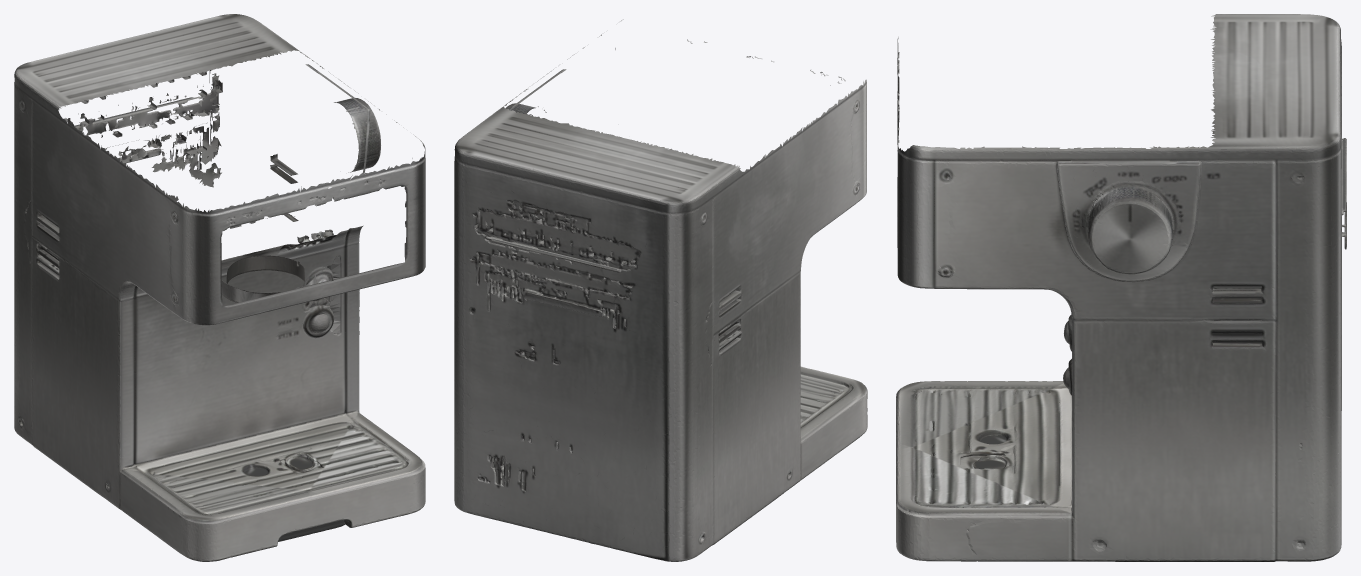
The picture shows the model from 3 angles, left to right: view 1: azimuth 30°, elevation 25°; view 2: azimuth 150°, elevation 25°; view 3: azimuth 270°, elevation 25°; orthographic projection. The views are drawn at different scales.
Visible parts, largest first — view 1: source_surface_0; view 2: source_surface_0; view 3: source_surface_0.
Boxes of the visible parts, bbox=[...] form: source_surface_0: bbox=[14, 14, 425, 561]; source_surface_0: bbox=[454, 19, 867, 561]; source_surface_0: bbox=[896, 14, 1346, 561].
Bounding box in the file's own units: 0.2599 × 0.3337 × 0.3246.
1 material, 1 textured.
